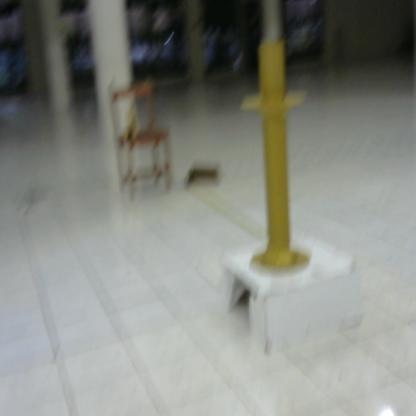pole: (234, 41, 320, 278)
